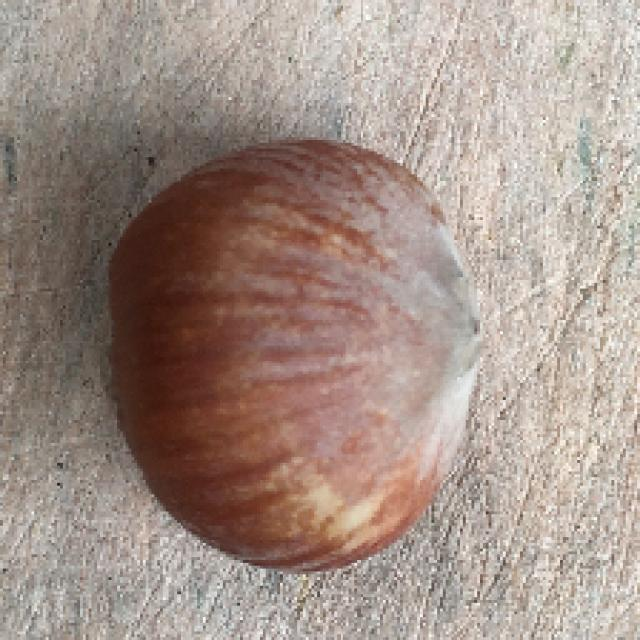qualityHazelnut: (104, 137, 487, 578)
